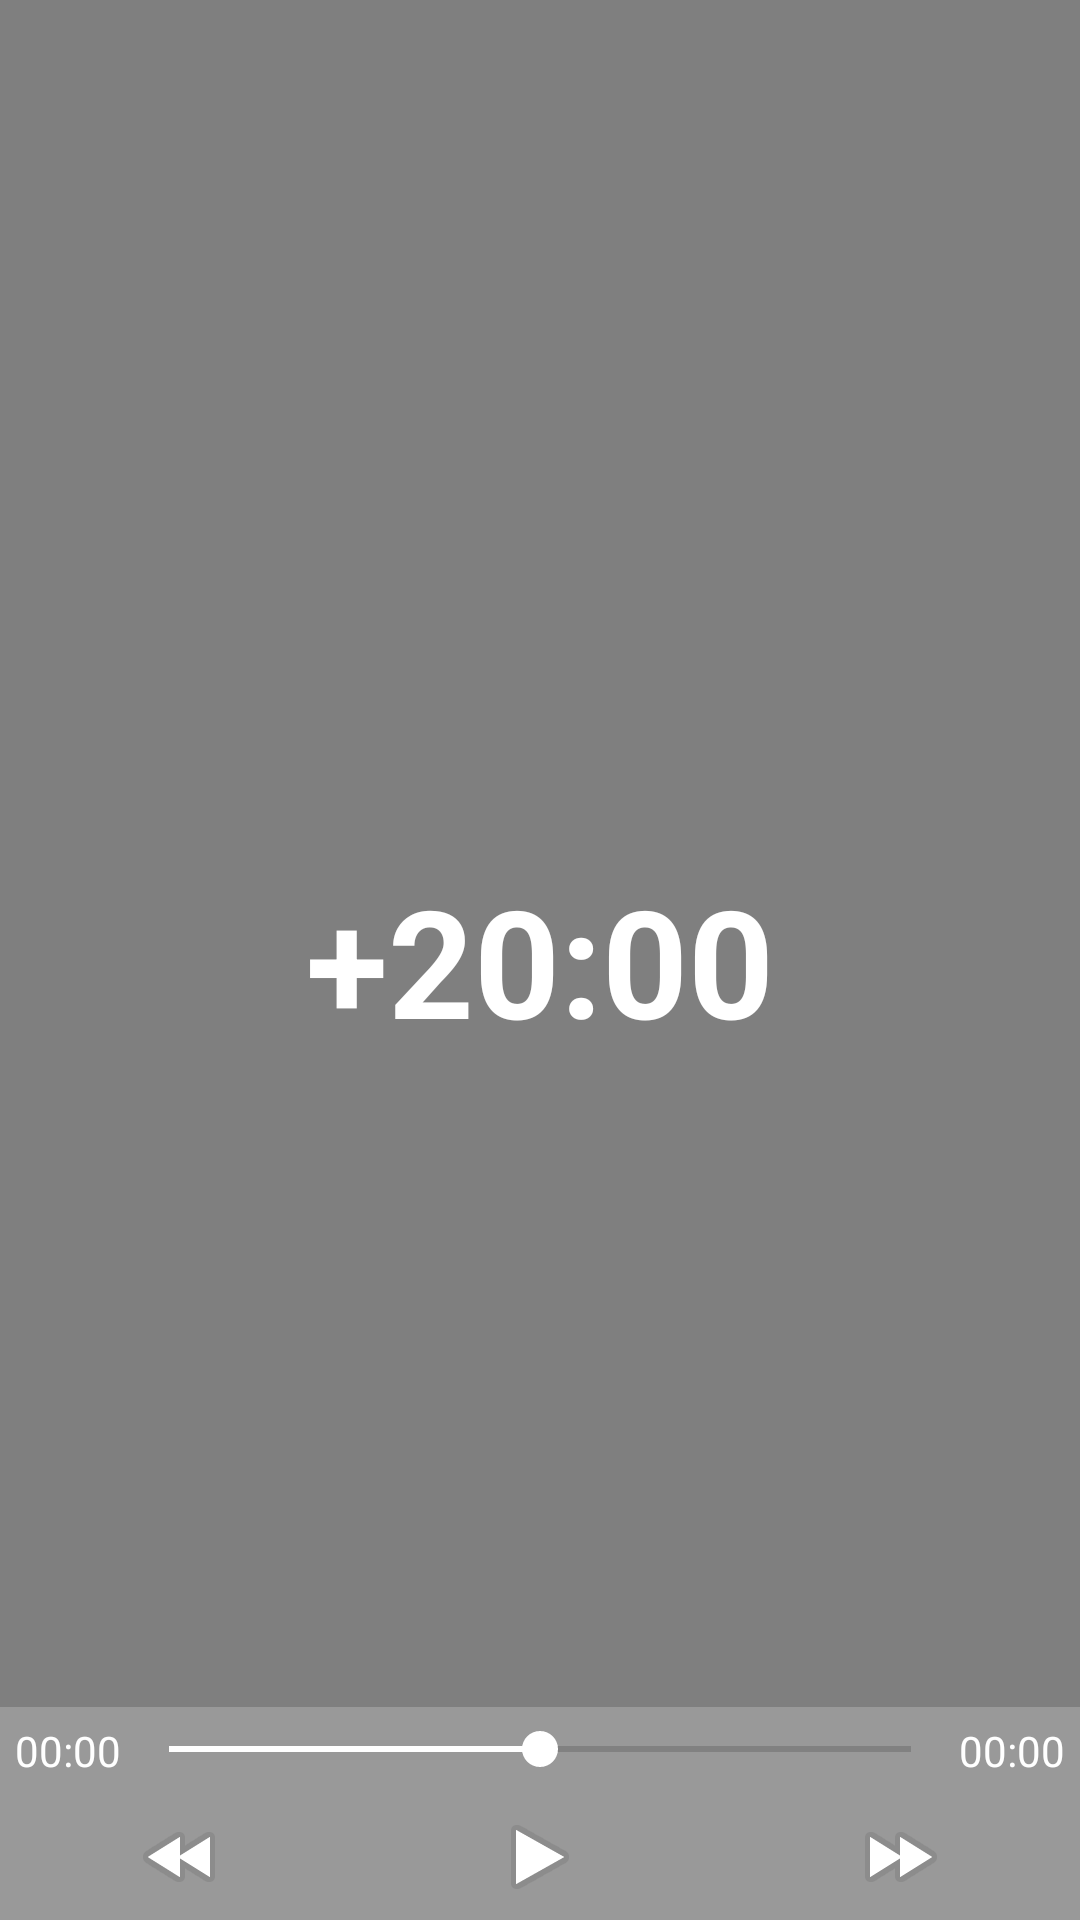

Icon bounding boxes for this 1080px×1920px phone screenshot, format (x1, y1, x2, y2):
play: (516, 1830, 564, 1884)
rew: (148, 1837, 210, 1877)
